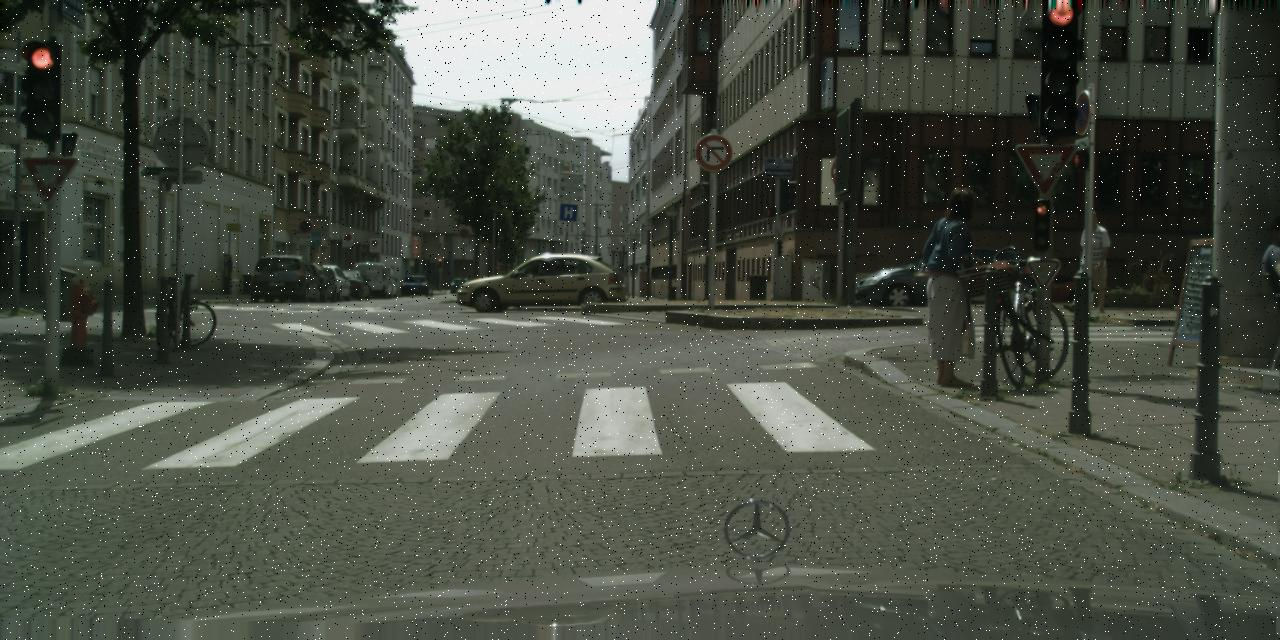ped: (914, 186, 995, 386), (1069, 210, 1110, 312)
